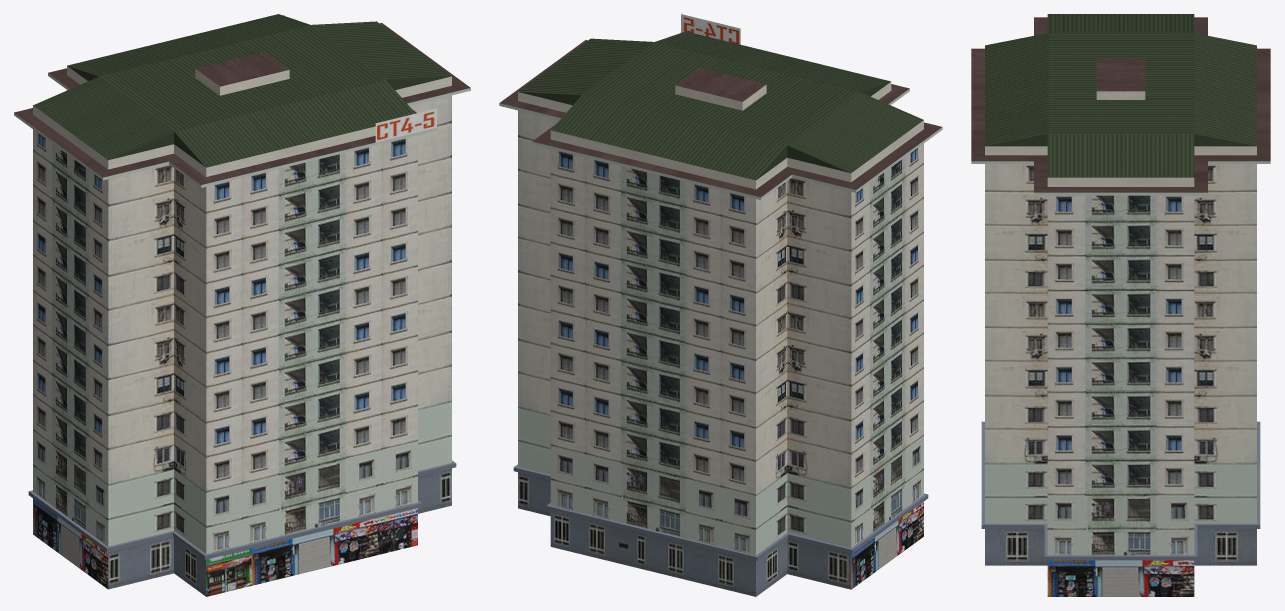
3 views of the same model, side by side, from view 1: azimuth 30°, elevation 25°; view 2: azimuth 150°, elevation 25°; view 3: azimuth 270°, elevation 25° (orthographic). The views are drawn at different scales.
Parts seen in each view (by area): view 1: CT4_5_KDT_Yen_Hoa; view 2: CT4_5_KDT_Yen_Hoa; view 3: CT4_5_KDT_Yen_Hoa.
Boxes of the visible parts, box(x1,y1,x2,y2) form: CT4_5_KDT_Yen_Hoa: box(14, 14, 470, 596); CT4_5_KDT_Yen_Hoa: box(499, 14, 942, 596); CT4_5_KDT_Yen_Hoa: box(971, 14, 1270, 596).
Size of the model in its own units: 39.6 by 46.39 by 28.6.
Materials: 1 (1 with a texture image).
